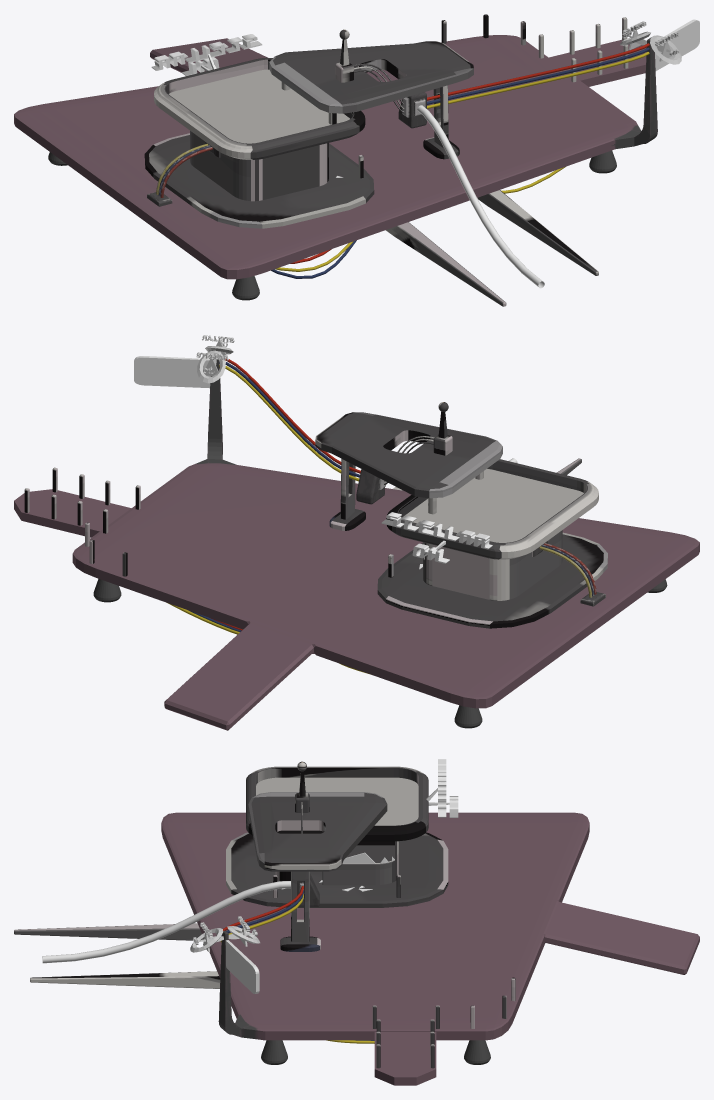
Rendered from Gasolinera.fbx.
The picture shows the model from 3 angles, top to bottom: view 1: azimuth 30°, elevation 25°; view 2: azimuth 150°, elevation 25°; view 3: azimuth 270°, elevation 25°; orthographic projection. The views are drawn at different scales.
Parts seen in each view (by area): view 1: Plane, Cube.003, BézierCurve, Cube.004, BézierCurve.006, Text.003, Cube.002, Cube, Cube.007, Text, Text.001; view 2: Plane, Cube.003, Cube.001, Text.003, BézierCurve, Cube.004, Cube.002, Cube.007, Text.001; view 3: Plane, Cube.003, BézierCurve.006, Cube.004, Cube, Text.003, BézierCurve, Text.
Part boxes in pixels (x1,y1,x2,y2): Plane: (14,35,657,279); Cube.003: (144,14,628,306); BézierCurve: (427,43,649,108); Cube.004: (48,150,616,300); BézierCurve.006: (417,105,544,288); Text.003: (151,34,262,75); Cube.002: (147,143,212,206); Cube: (655,20,699,70); Cube.007: (398,92,426,128); Text: (650,32,681,64); Text.001: (620,21,650,49); Plane: (14,357,699,730); Cube.003: (24,402,607,628); Cube.001: (134,356,210,388); Text.003: (381,512,492,563); BézierCurve: (219,359,360,481); Cube.004: (93,578,667,728); Cube.002: (539,543,605,606); Cube.007: (356,469,385,504); Text.001: (196,350,228,383); Plane: (161,812,699,1085); Cube.003: (14,761,515,1068); BézierCurve.006: (42,881,290,963); Cube.004: (261,1040,490,1064); Cube: (225,940,257,993); Text.003: (426,759,458,817); BézierCurve: (220,886,303,942); Text: (190,922,223,952).
Bounding box in the file's own units: 8439 × 2867 × 9259.
